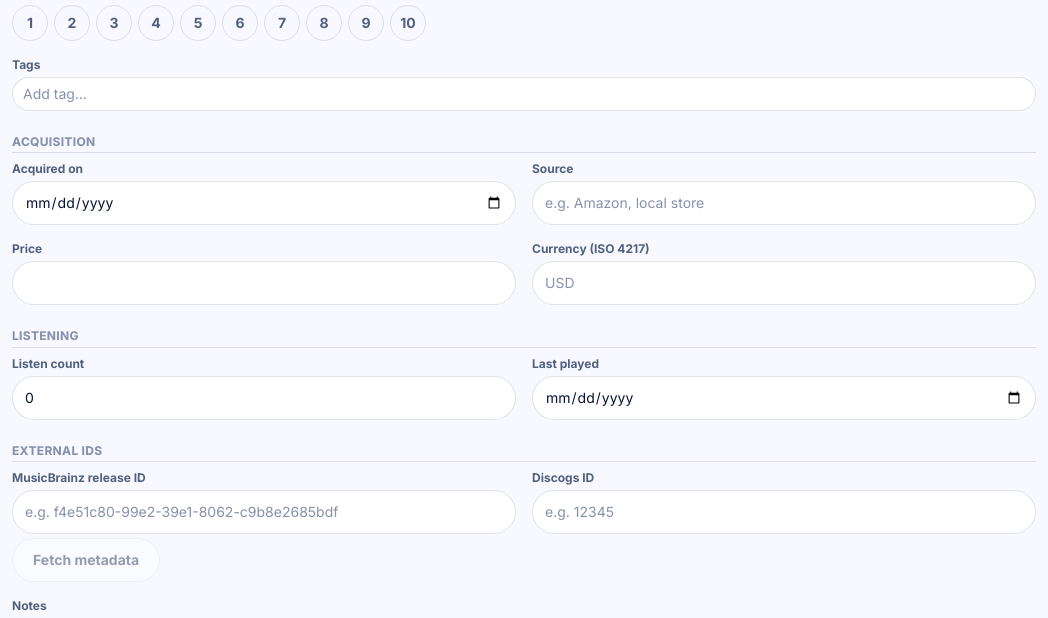
Test: AlbumForm — Fetch metadata by MusicBrainz Release ID › shows a not-found hint when the lookup misses
(page scrolled)
Type "00000000-0000-0000-0000-000000000000" into the field with placeholder "e.g. f4e51c80-99e2-39e1-8062-c9b8e2685bdf" at (264, 512), box [12, 490, 516, 534]
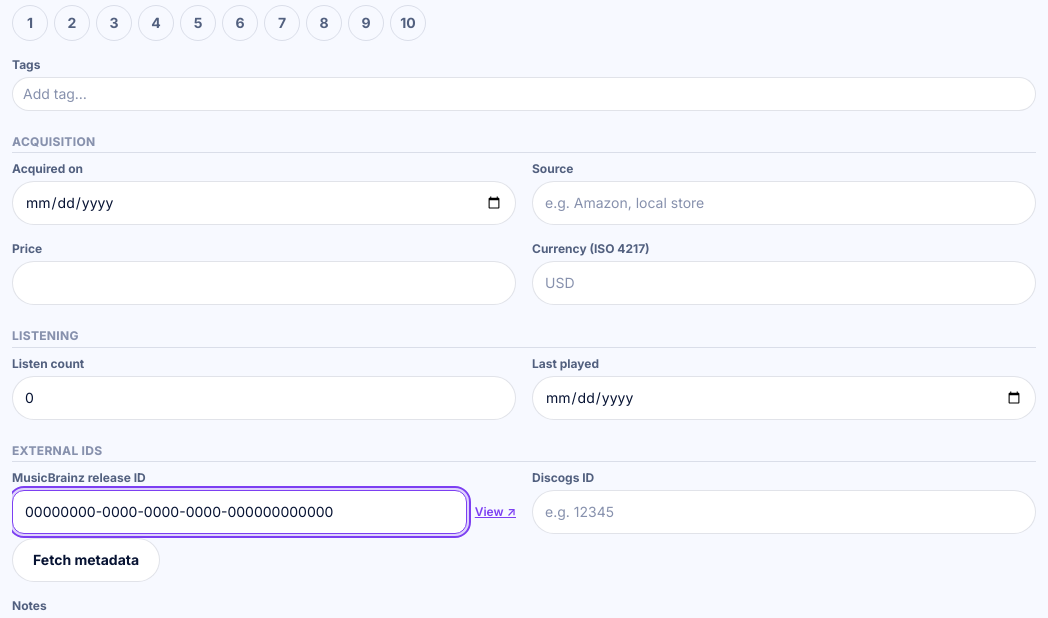
Click the button with aria-label "fetch metadata by musicbrainz release id" at (86, 560), box [12, 538, 160, 582]
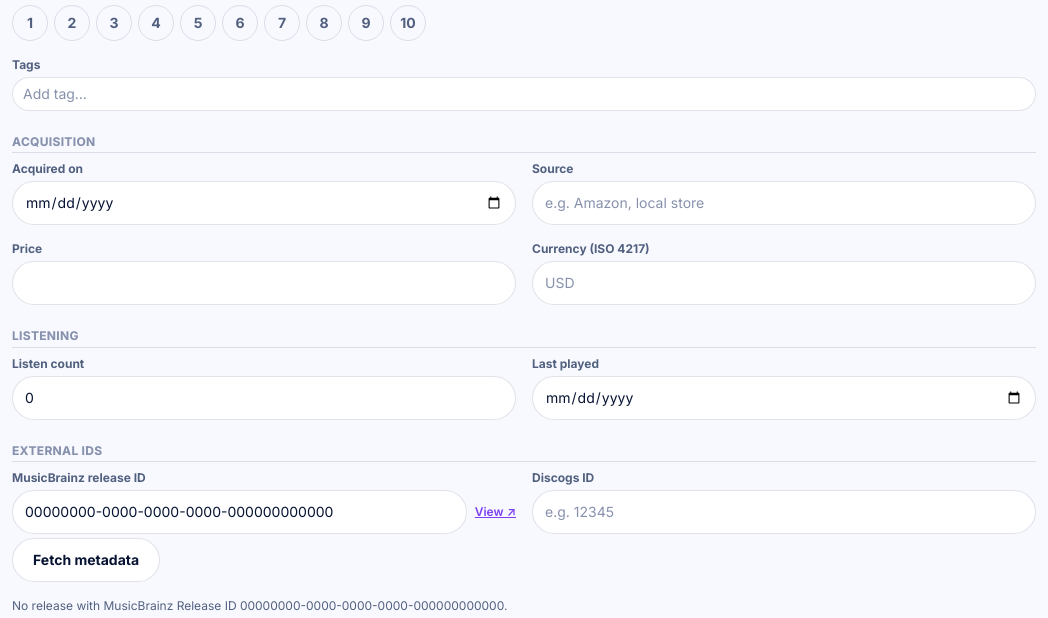
Check: the text "No release with MusicBrainz Release ID" is shown, box [12, 598, 507, 613]
